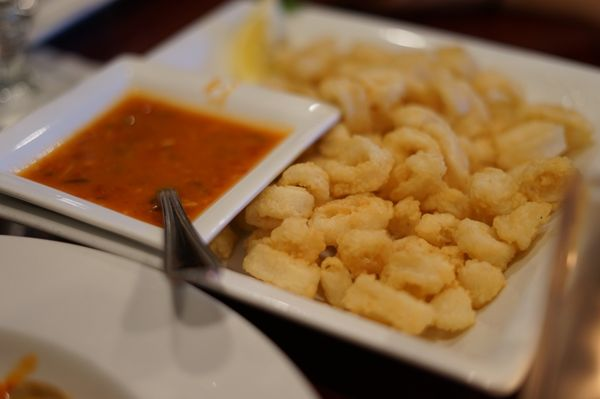curry: (0, 1, 600, 390)
